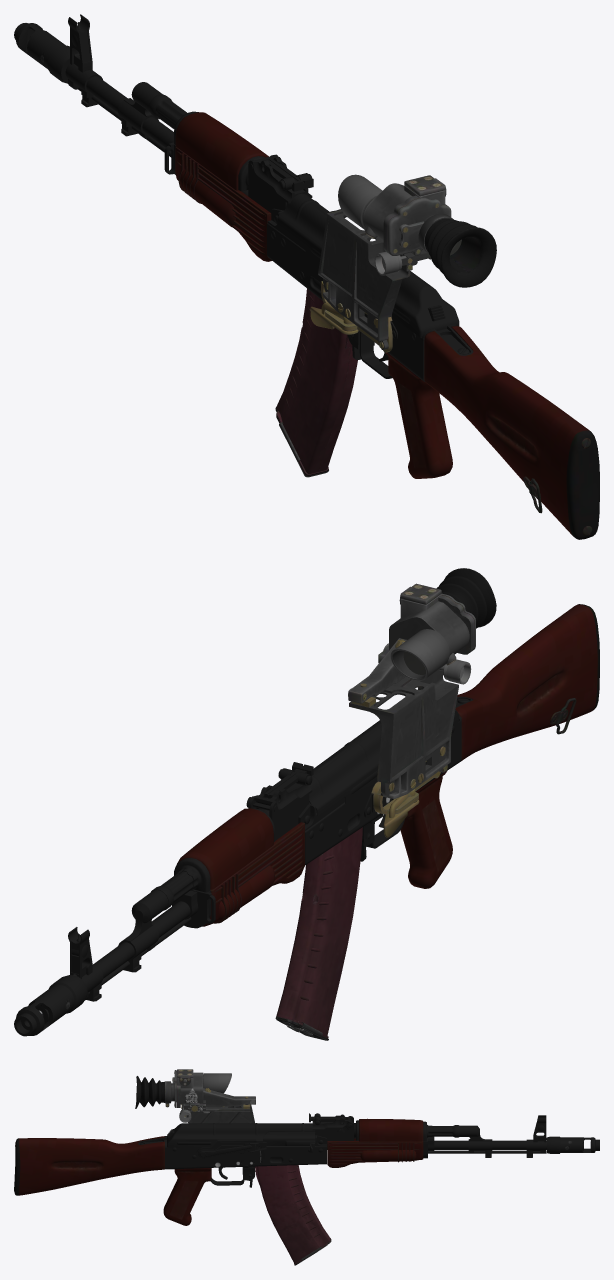
The picture shows the model from 3 angles, top to bottom: view 1: azimuth 30°, elevation 25°; view 2: azimuth 150°, elevation 25°; view 3: azimuth 270°, elevation 25°; orthographic projection. The views are drawn at different scales.
Parts seen in each view (by area): view 1: AK-74_body.003, 1P29.003, AK-74_stock.002, AK-74_polymer_mag30.003, AK-74_phandguard.002, AK-74__grip.002; view 2: AK-74_body.003, 1P29.003, AK-74_stock.002, AK-74_polymer_mag30.003, AK-74_phandguard.002, AK-74__grip.002; view 3: AK-74_body.003, AK-74_stock.002, 1P29.003, AK-74_polymer_mag30.003, AK-74_phandguard.002, AK-74__grip.002.
Part boxes in pixels (x1,y1,x2,y2): AK-74_body.003: (14,14,473,381); 1P29.003: (310,174,496,352); AK-74_stock.002: (424,326,599,539); AK-74_polymer_mag30.003: (275,288,357,477); AK-74_phandguard.002: (175,112,271,261); AK-74__grip.002: (385,352,452,478); AK-74_body.003: (14,696,472,1036); 1P29.003: (348,568,496,837); AK-74_stock.002: (455,604,599,761); AK-74_polymer_mag30.003: (275,827,362,1040); AK-74_phandguard.002: (176,808,304,926); AK-74__grip.002: (400,771,452,888); AK-74_body.003: (138,1113,599,1187); AK-74_stock.002: (14,1136,164,1195); 1P29.003: (135,1069,255,1123); AK-74_polymer_mag30.003: (255,1165,331,1265); AK-74_phandguard.002: (327,1118,423,1167); AK-74__grip.002: (163,1168,211,1225).
Bounding box in the file's own units: 0.0877 × 0.339 × 0.9415.
Materials: 5 (4 with a texture image).
